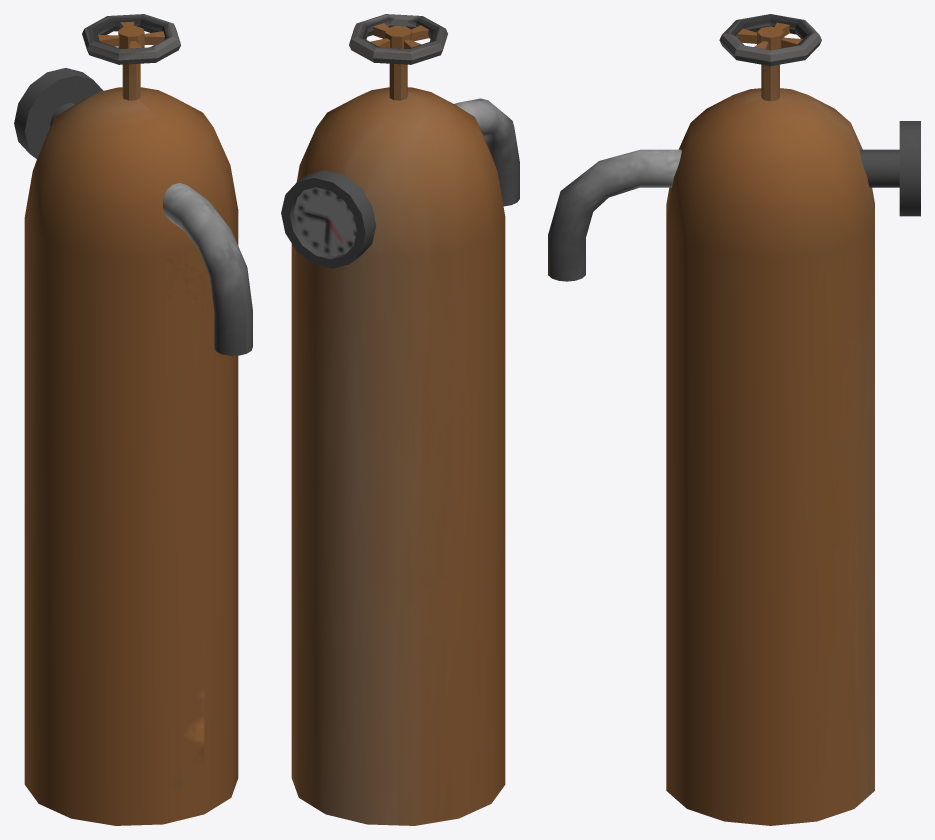
The model's file is Turbo.fbx.
3 renders of one model, left to right at view 1: azimuth 30°, elevation 25°; view 2: azimuth 150°, elevation 25°; view 3: azimuth 270°, elevation 25°, orthographic.
Visible parts, largest first — view 1: pCylinder4; view 2: pCylinder4; view 3: pCylinder4.
Part boxes in pixels (x1=…): pCylinder4: x1=14, y1=14, x2=252, y2=825; pCylinder4: x1=281, y1=14, x2=519, y2=825; pCylinder4: x1=548, y1=14, x2=920, y2=825.
Size of the model in its own units: 0.9793 by 3.78 by 1.7.
